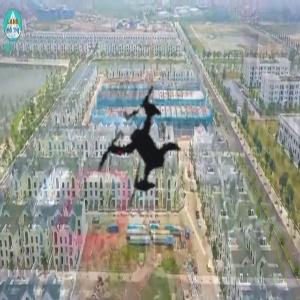drone: (55, 60, 229, 234)
